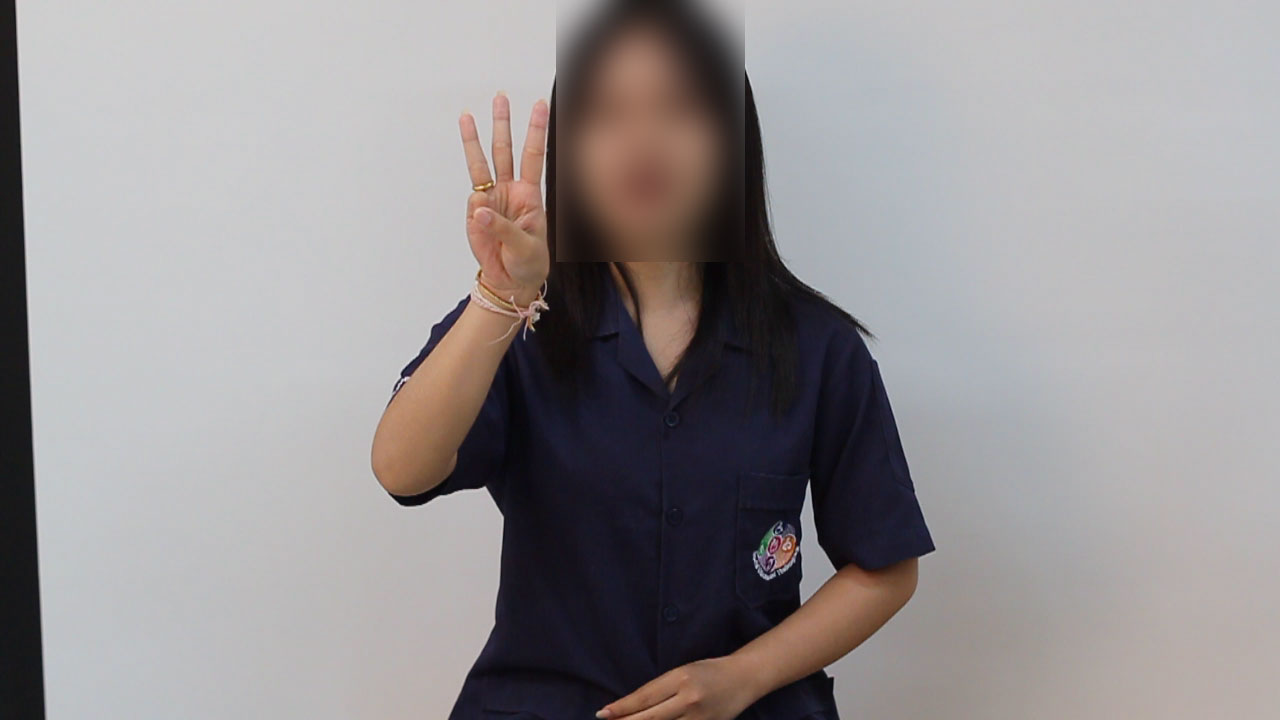wor: (447, 83, 562, 312)
